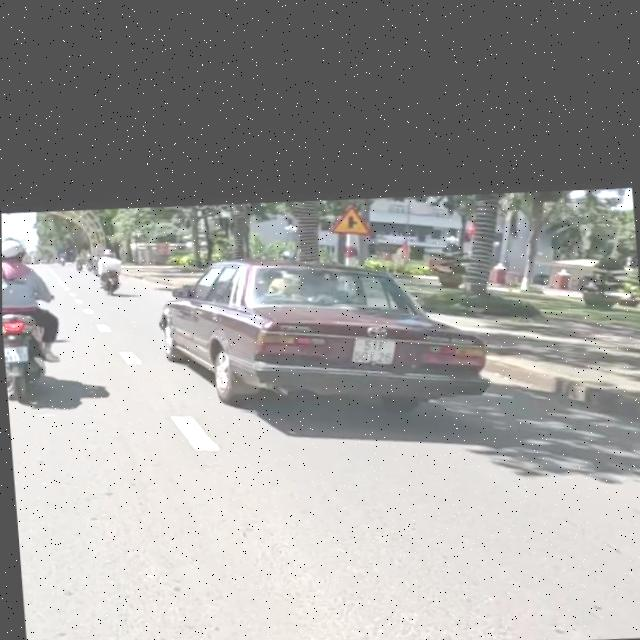car: (153, 237, 503, 446)
motorcycle: (2, 308, 58, 409)
plate: (347, 327, 399, 376), (3, 340, 31, 367)
